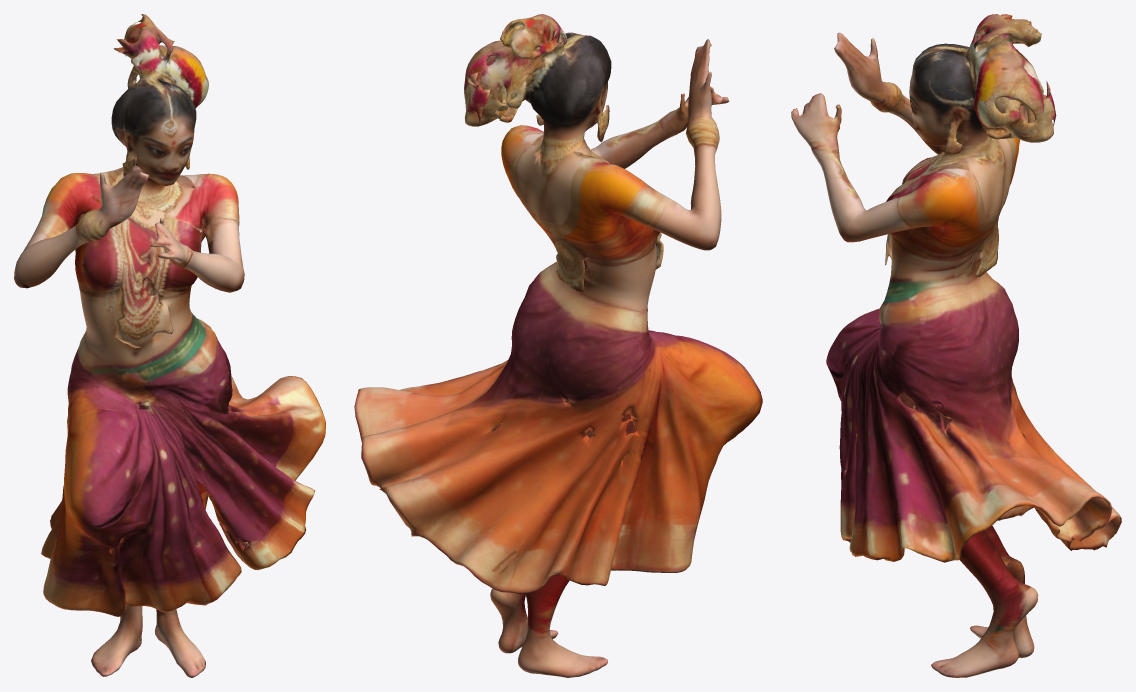
The picture shows the model from 3 angles, left to right: view 1: azimuth 30°, elevation 25°; view 2: azimuth 150°, elevation 25°; view 3: azimuth 270°, elevation 25°; orthographic projection. The views are drawn at different scales.
Size of the model in its own units: 1.06 by 1.99 by 0.9212.
Materials: 1 (1 with a texture image).
